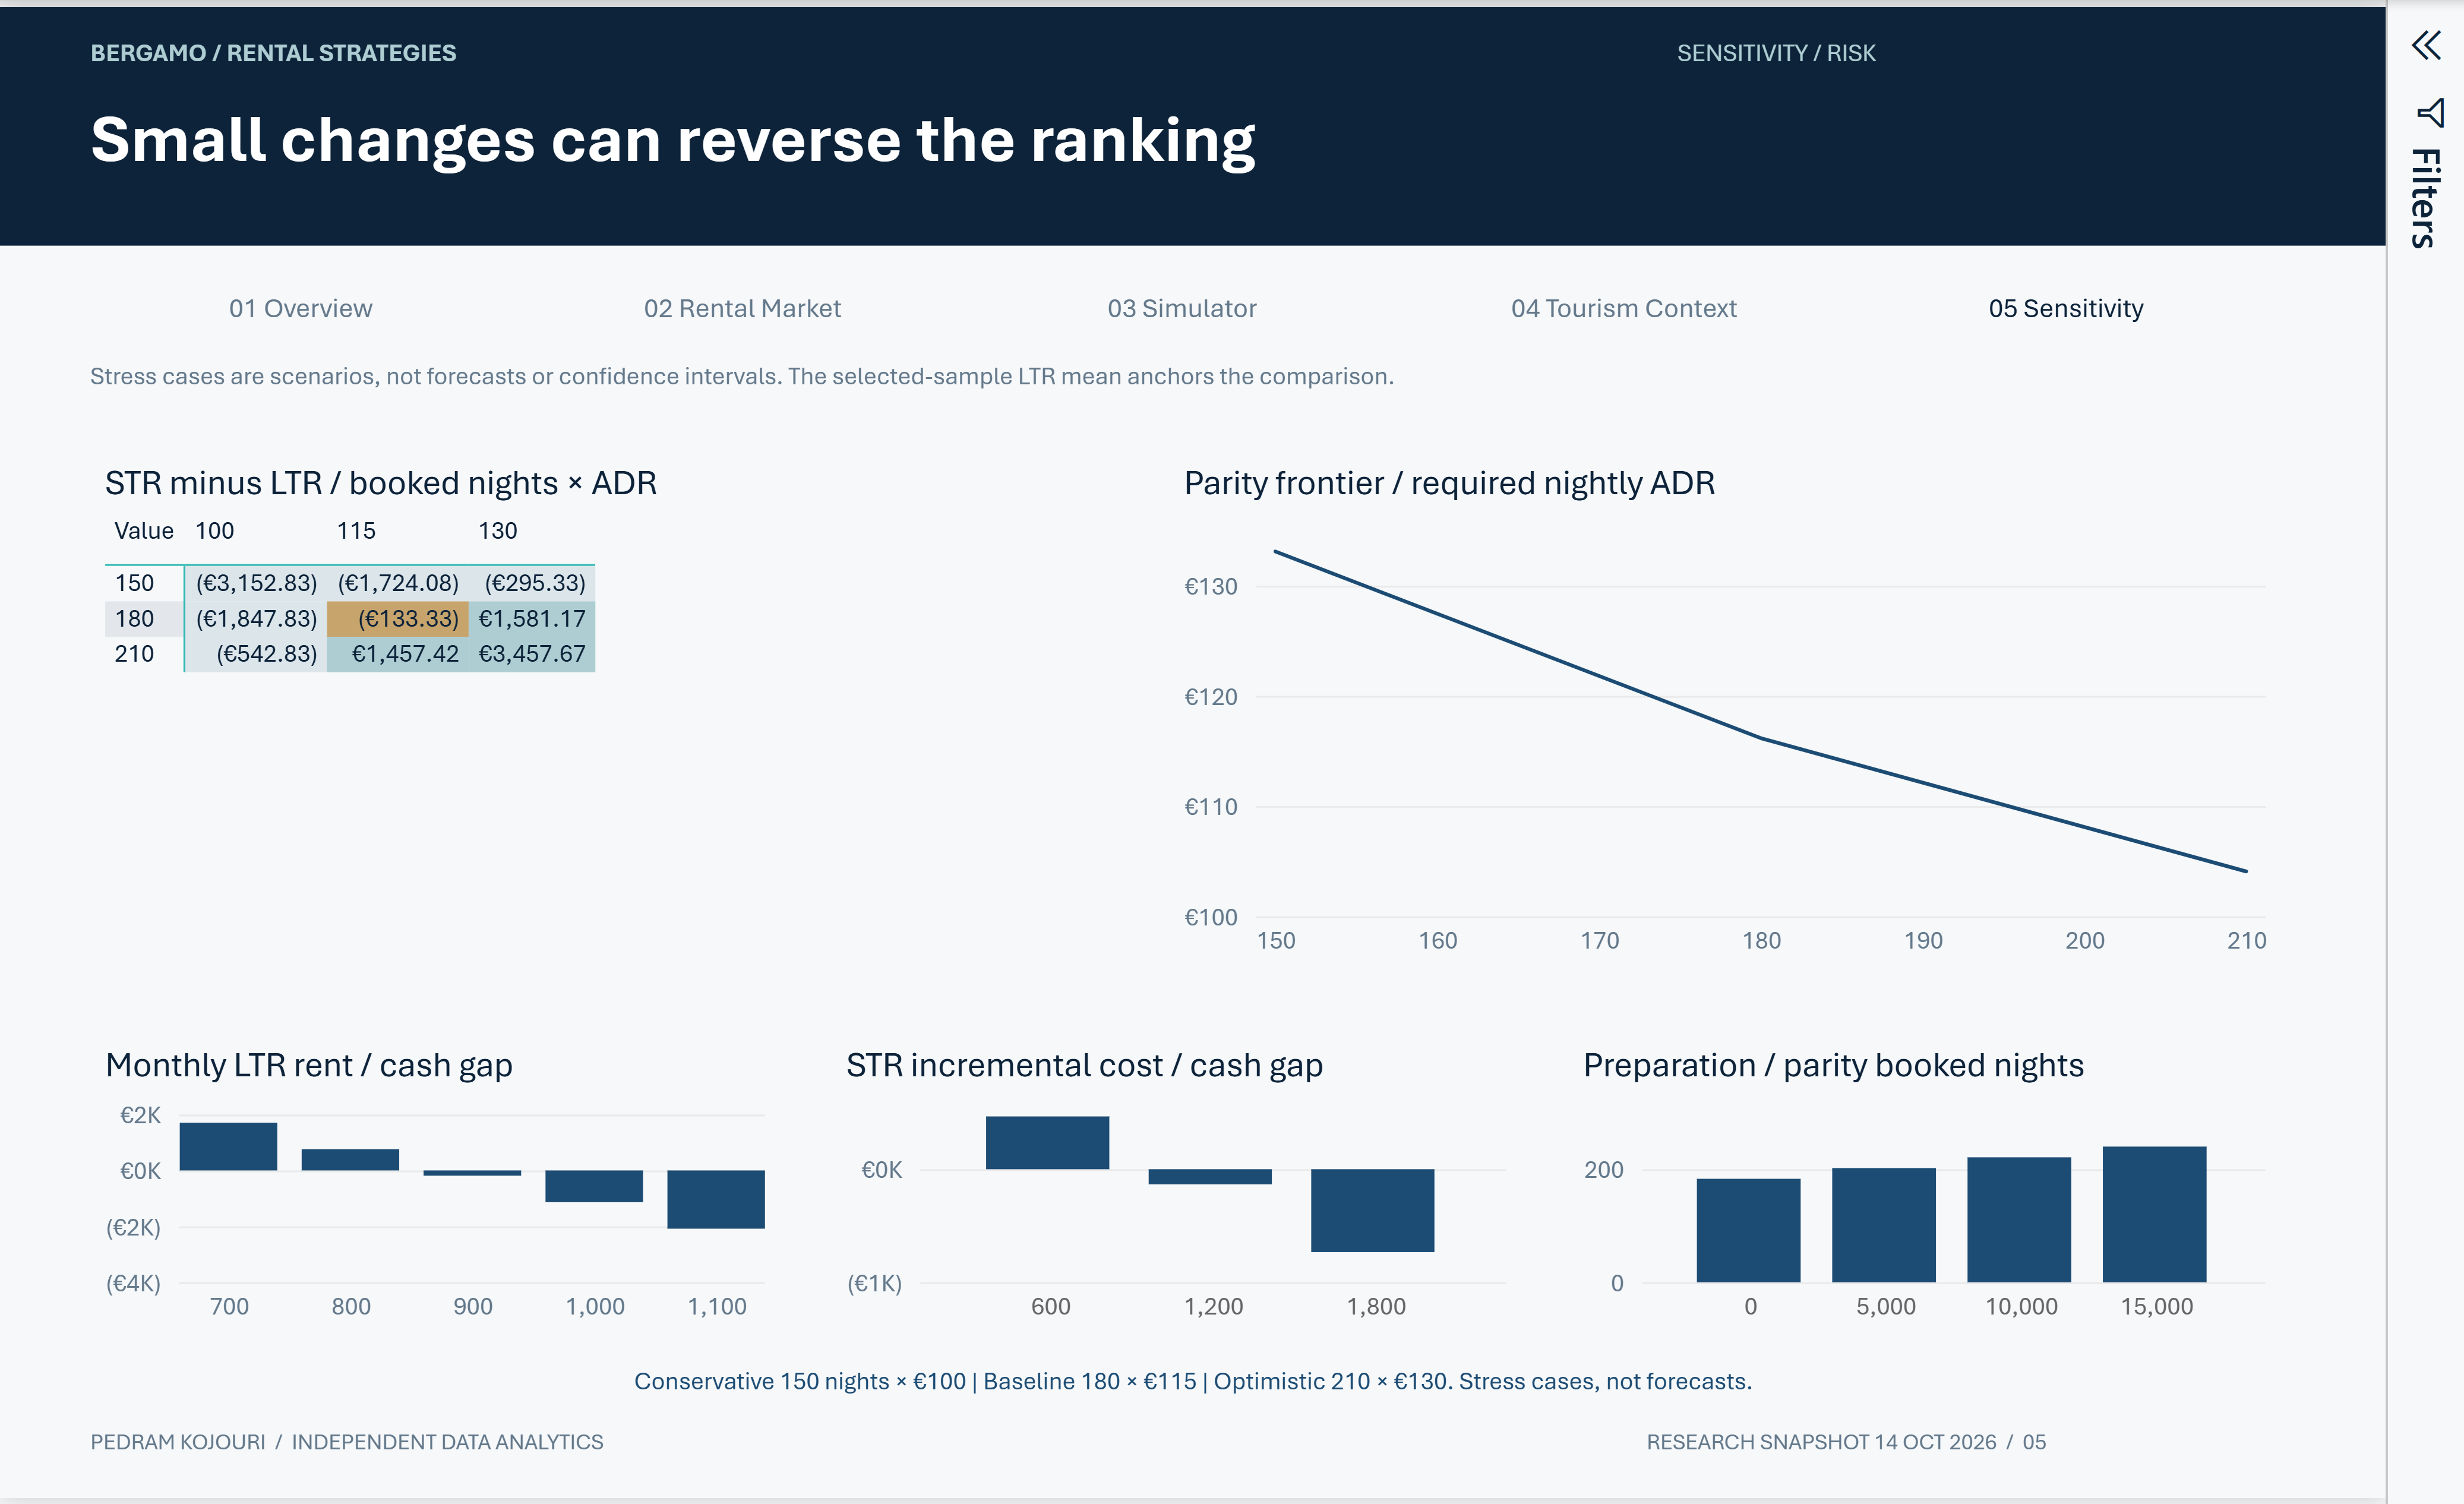

The dashboard page shown, as its layout file describes it:
{"tool":"powerbi","page":{"name":"Sensitivity","canvas":[1280,800],"ordinal":4},"visuals":[{"type":"textbox","box":[0,0,1280,128],"z":114},{"type":"textbox","box":[48,16,690,24],"z":115},{"type":"textbox","box":[900,16,332,24],"z":116},{"type":"textbox","box":[48,49,1150,60],"z":117},{"type":"actionButton","box":[48,140,226,42],"z":118},{"type":"actionButton","box":[285,140,226,42],"z":119},{"type":"actionButton","box":[522,140,226,42],"z":120},{"type":"actionButton","box":[759,140,226,42],"z":121},{"type":"actionButton","box":[996,140,226,42],"z":122},{"type":"textbox","box":[48,190,1184,36],"z":123},{"type":"textbox","box":[48,762,650,24],"z":124},{"type":"textbox","box":[884,762,350,24],"z":125},{"type":"pivotTable","title":"STR minus LTR / booked nights × ADR","fields":{"Columns":["RiskADR.Value"],"Rows":["RiskNights.Value"],"Values":["Metrics.Heatmap Gap"]},"box":[48,236,555,286],"z":126},{"type":"lineChart","title":"Parity frontier / required nightly ADR","fields":{"Category":["RiskNights.Value"],"Y":["Metrics.Frontier ADR"]},"box":[627,236,597,286],"z":127},{"type":"columnChart","title":"Monthly LTR rent / cash gap","fields":{"Category":["RiskRent.Value"],"Y":["Metrics.Rent Sensitivity"]},"box":[48,548,370,170],"z":128},{"type":"columnChart","title":"STR incremental cost / cash gap","fields":{"Category":["RiskCost.Value"],"Y":["Metrics.Cost Sensitivity"]},"box":[446,548,370,170],"z":129},{"type":"columnChart","title":"Preparation / parity booked nights","fields":{"Category":["Setup.Value"],"Y":["Metrics.Setup Nights"]},"box":[842,548,382,170],"z":130},{"type":"card","fields":{"Values":["Metrics.Risk Case Labels"]},"box":[48,724,1184,30],"z":131}]}

Visuals, with their boxes on the page's 1280x800 design canvas (x1, y1, x2, y2). These are canvas units, not pixel positions in the 2464x1504 screenshot, which may show the page scaled, cropped or inside an application window:
textbox: <bbox>0, 0, 1280, 128</bbox>
textbox: <bbox>48, 16, 738, 40</bbox>
textbox: <bbox>900, 16, 1232, 40</bbox>
textbox: <bbox>48, 49, 1198, 109</bbox>
actionButton: <bbox>48, 140, 274, 182</bbox>
actionButton: <bbox>285, 140, 511, 182</bbox>
actionButton: <bbox>522, 140, 748, 182</bbox>
actionButton: <bbox>759, 140, 985, 182</bbox>
actionButton: <bbox>996, 140, 1222, 182</bbox>
textbox: <bbox>48, 190, 1232, 226</bbox>
textbox: <bbox>48, 762, 698, 786</bbox>
textbox: <bbox>884, 762, 1234, 786</bbox>
"STR minus LTR / booked nights × ADR" pivotTable: <bbox>48, 236, 603, 522</bbox>
"Parity frontier / required nightly ADR" lineChart: <bbox>627, 236, 1224, 522</bbox>
"Monthly LTR rent / cash gap" columnChart: <bbox>48, 548, 418, 718</bbox>
"STR incremental cost / cash gap" columnChart: <bbox>446, 548, 816, 718</bbox>
"Preparation / parity booked nights" columnChart: <bbox>842, 548, 1224, 718</bbox>
card - Metrics.Risk Case Labels: <bbox>48, 724, 1232, 754</bbox>
